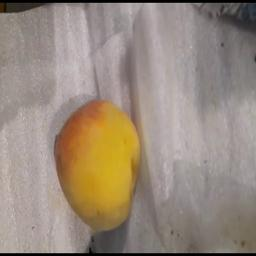Peach Semifresh: (42, 98, 155, 237)
